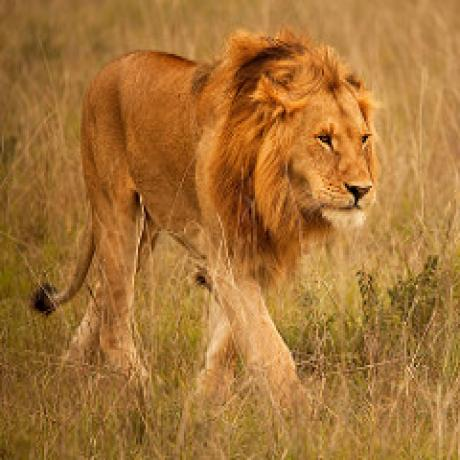Lion: (38, 28, 377, 404)
